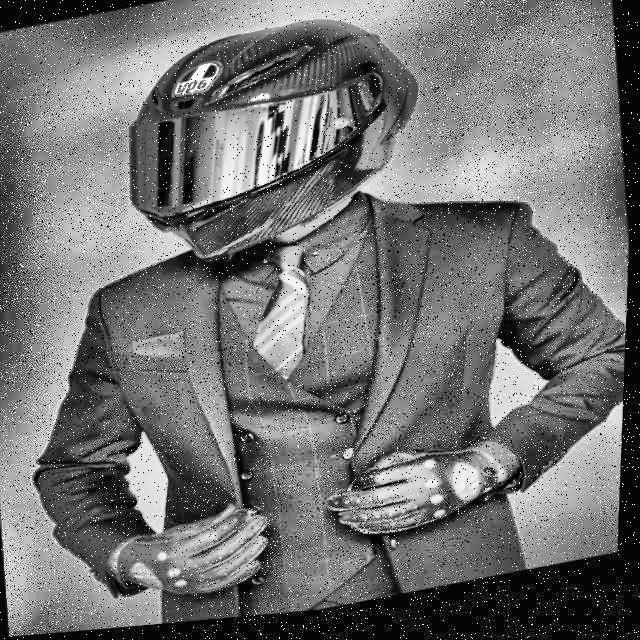Helmet: (100, 0, 447, 296)
